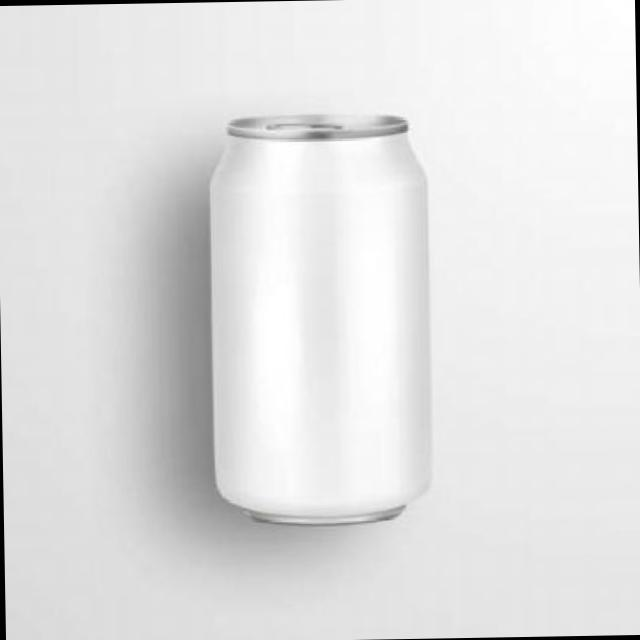Kaleng: (206, 109, 436, 526)
